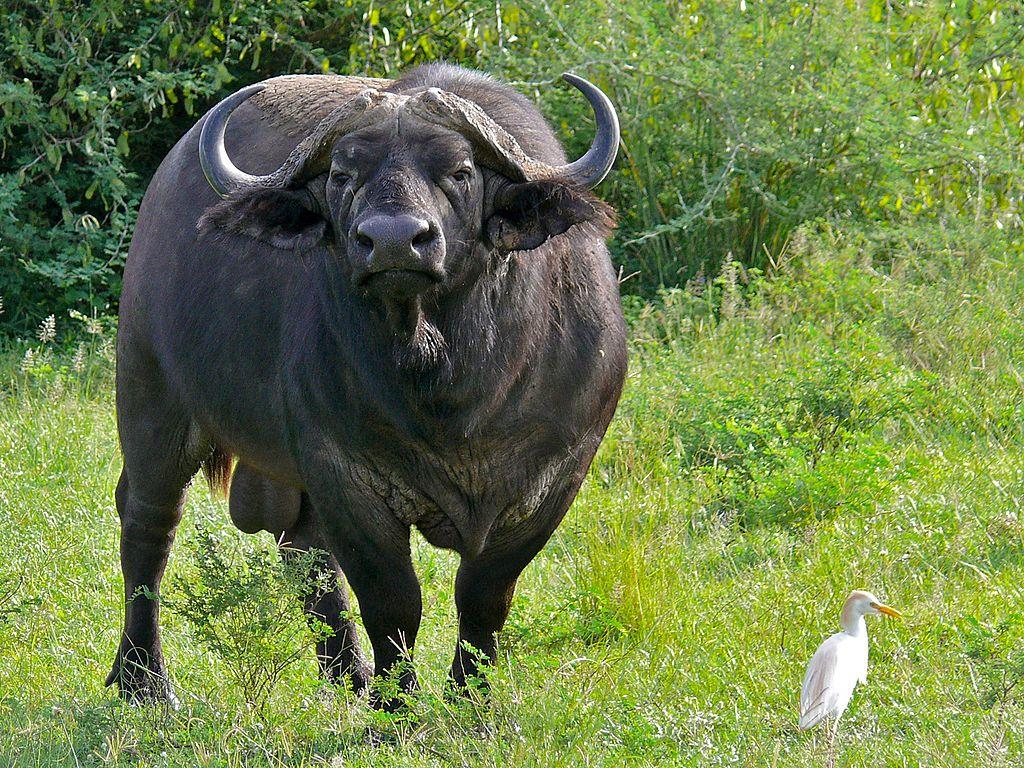Buffalo: (142, 0, 721, 717)
